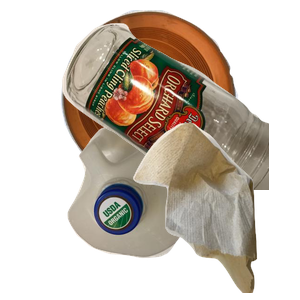glass: (60, 21, 300, 201)
metal: (58, 10, 289, 186)
plastic: (65, 123, 257, 300)
trash: (131, 120, 300, 300)
